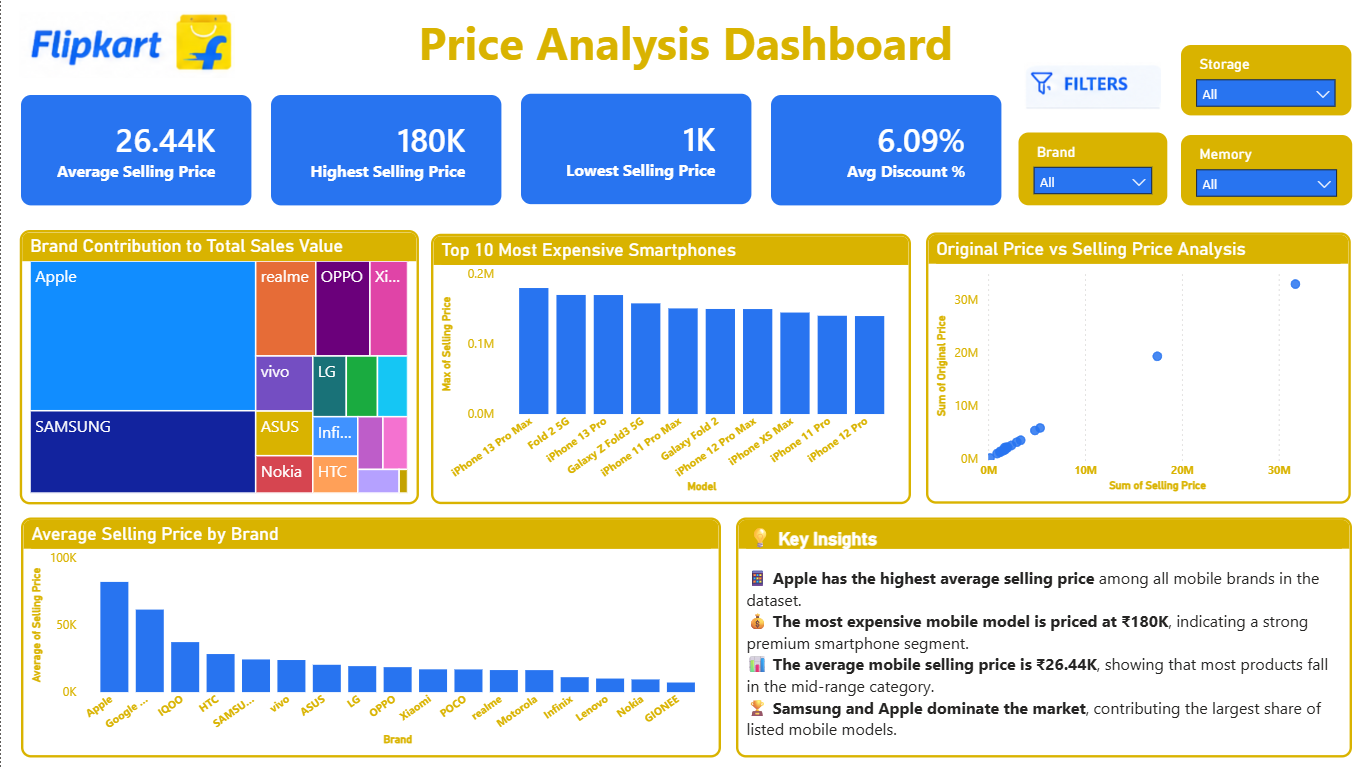

Layout of this report page (visuals, bound fields, positions):
{"tool":"powerbi","page":{"name":"Price Analysis","canvas":[1366,768],"ordinal":1},"visuals":[{"type":"textbox","title":"Price Analysis Dashboard","box":[253.8,11.2,862.1,115.7],"z":0},{"type":"cardVisual","fields":{"Data":["Avg(Flipkart_Mobiles.Selling Price)"]},"box":[20,95,230,110.1],"z":1000},{"type":"cardVisual","fields":{"Data":["Max(Flipkart_Mobiles.Selling Price)"]},"box":[270,95,230,110.1],"z":2000},{"type":"cardVisual","fields":{"Data":["Min(Flipkart_Mobiles.Selling Price)"]},"box":[520,94.2,230,110.1],"z":3000},{"type":"treemap","title":"Brand Contribution to Total Sales Value","fields":{"Group":["Flipkart_Mobiles.Brand"],"Values":["Sum(Flipkart_Mobiles.Selling Price)"]},"box":[18.6,229.6,399.4,274.7],"z":4000},{"type":"clusteredColumnChart","title":"Top 10 Most Expensive Smartphones","fields":{"Category":["Flipkart_Mobiles.Model"],"Y":["Max(Flipkart_Mobiles.Selling Price)"]},"box":[429.9,233.5,480.3,270.7],"z":5000},{"type":"scatterChart","title":"Original Price vs Selling Price Analysis","fields":{"Category":["Flipkart_Mobiles.Brand"],"X":["Sum(Flipkart_Mobiles.Selling Price)"],"Y":["Sum(Flipkart_Mobiles.Original Price)"]},"box":[925.5,232.8,424.7,270.9],"z":6000},{"type":"clusteredColumnChart","title":"Average Selling Price by Brand","fields":{"Category":["Flipkart_Mobiles.Brand"],"Y":["Avg(Flipkart_Mobiles.Selling Price)"]},"box":[19.9,517.5,700,240],"z":7000},{"type":"cardVisual","fields":{"Data":["Flipkart_Mobiles.Avg Discount %"]},"box":[770,95,230,110],"z":8000},{"type":"image","box":[19,7,215,74],"z":9000},{"type":"image","box":[1020.4,55.7,143.3,59.7],"z":10000},{"type":"slicer","fields":{"Values":["Flipkart_Mobiles.Memory"]},"box":[1180,135.3,171.2,70.3],"z":11000},{"type":"slicer","fields":{"Values":["Flipkart_Mobiles.Storage"]},"box":[1180,45.1,170,70.3],"z":12000},{"type":"slicer","fields":{"Values":["Flipkart_Mobiles.Brand"]},"box":[1017.7,132.7,148.6,73],"z":13000},{"type":"textbox","title":"💡 Key Insights","box":[735.1,517.5,615.7,240.2],"z":14000}]}

Visuals, with their boxes in screenshot pixels (x1, y1, x2, y2), scaled from the page's 1366x768 canvas onto the 1366x767 screenshot:
"Price Analysis Dashboard" textbox: bbox=(254, 11, 1116, 127)
cardVisual - Avg(Flipkart_Mobiles.Selling Price): bbox=(20, 95, 250, 205)
cardVisual - Max(Flipkart_Mobiles.Selling Price): bbox=(270, 95, 500, 205)
cardVisual - Min(Flipkart_Mobiles.Selling Price): bbox=(520, 94, 750, 204)
"Brand Contribution to Total Sales Value" treemap: bbox=(19, 229, 418, 504)
"Top 10 Most Expensive Smartphones" clusteredColumnChart: bbox=(430, 233, 910, 504)
"Original Price vs Selling Price Analysis" scatterChart: bbox=(926, 232, 1350, 503)
"Average Selling Price by Brand" clusteredColumnChart: bbox=(20, 517, 720, 757)
cardVisual - Flipkart_Mobiles.Avg Discount %: bbox=(770, 95, 1000, 205)
image: bbox=(19, 7, 234, 81)
image: bbox=(1020, 56, 1164, 115)
slicer - Flipkart_Mobiles.Memory: bbox=(1180, 135, 1351, 205)
slicer - Flipkart_Mobiles.Storage: bbox=(1180, 45, 1350, 115)
slicer - Flipkart_Mobiles.Brand: bbox=(1018, 133, 1166, 205)
"💡 Key Insights" textbox: bbox=(735, 517, 1351, 757)
